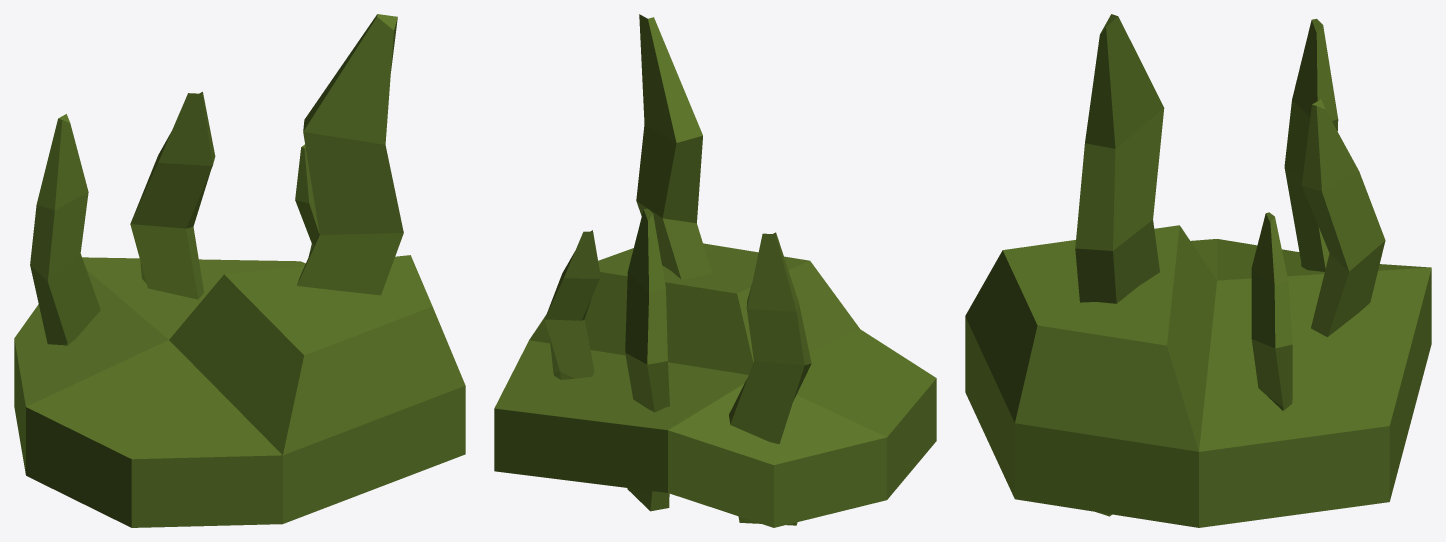
File: Moss.fbx
The picture shows the model from 3 angles, left to right: view 1: azimuth 30°, elevation 25°; view 2: azimuth 150°, elevation 25°; view 3: azimuth 270°, elevation 25°; orthographic projection. The views are drawn at different scales.
Visible parts, largest first — view 1: Moss; view 2: Moss; view 3: Moss.
Boxes of the visible parts, left/top/right/bottom form: Moss: left=14, top=14, right=465, bottom=527; Moss: left=494, top=14, right=936, bottom=527; Moss: left=965, top=14, right=1431, bottom=527.
Size of the model in its own units: 1.09 by 1.2 by 0.994.
